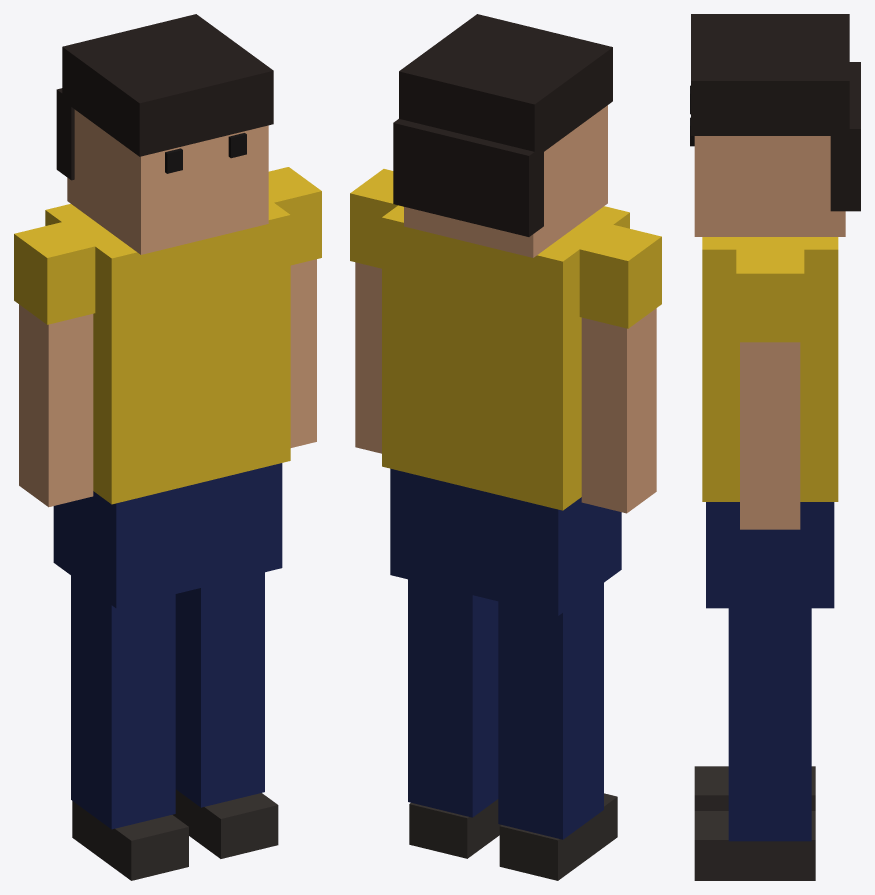
The model's file is kid_hassan.obj.
3 renders of one model, left to right at view 1: azimuth 30°, elevation 25°; view 2: azimuth 150°, elevation 25°; view 3: azimuth 270°, elevation 25°, orthographic. The views are drawn at different scales.
Parts seen in each view (by area): view 1: kid_hassan; view 2: kid_hassan; view 3: kid_hassan.
Part boxes in pixels (x1,y1,x2,y2): kid_hassan: (14,14,321,880); kid_hassan: (350,14,661,880); kid_hassan: (690,14,860,880).
Size of the model in its own units: 0.43 by 1.16 by 0.226.
